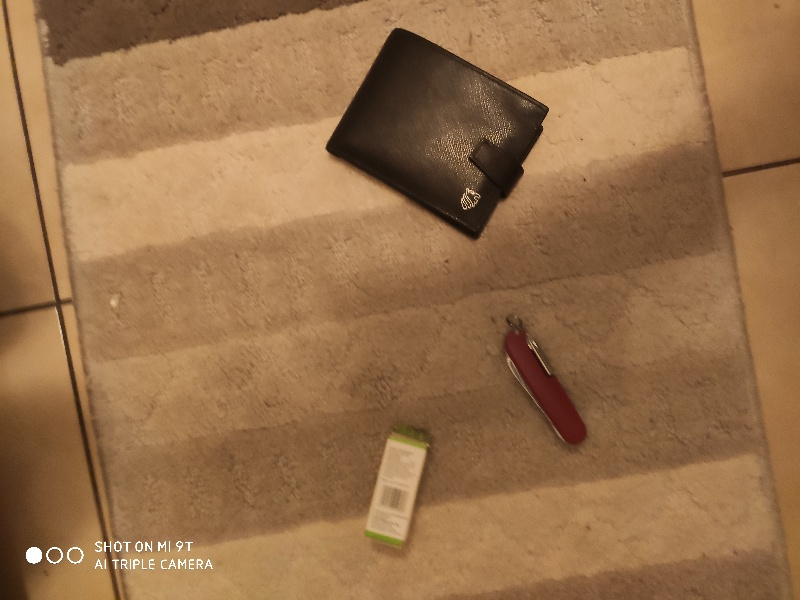ifrin: (355, 415, 435, 561)
knife: (495, 318, 598, 465)
wallet: (321, 15, 551, 245)
